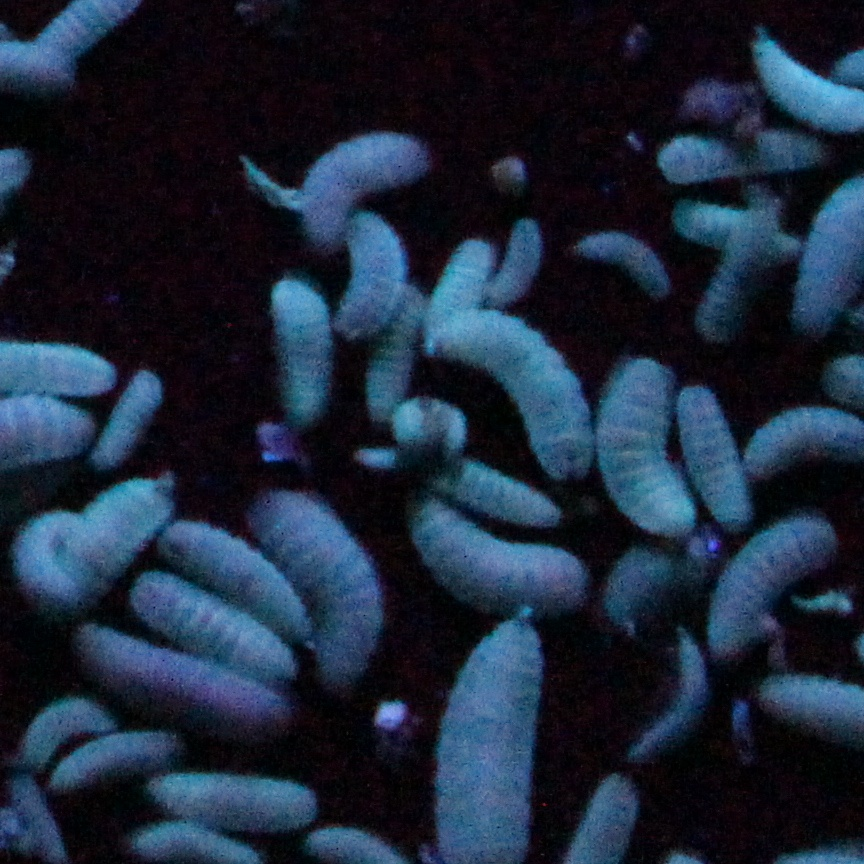larve: (243, 478, 386, 690), (436, 313, 598, 489), (76, 621, 293, 739), (131, 564, 311, 687), (405, 492, 585, 614), (592, 352, 695, 542), (714, 516, 835, 653), (169, 518, 311, 632), (305, 123, 431, 247), (700, 187, 787, 339), (54, 482, 168, 585), (140, 768, 326, 826), (627, 628, 708, 755), (273, 280, 336, 430), (685, 385, 748, 526), (441, 468, 564, 530), (86, 368, 159, 466), (14, 509, 87, 604), (350, 207, 402, 330), (15, 691, 115, 754), (579, 232, 669, 301), (488, 221, 538, 306)
